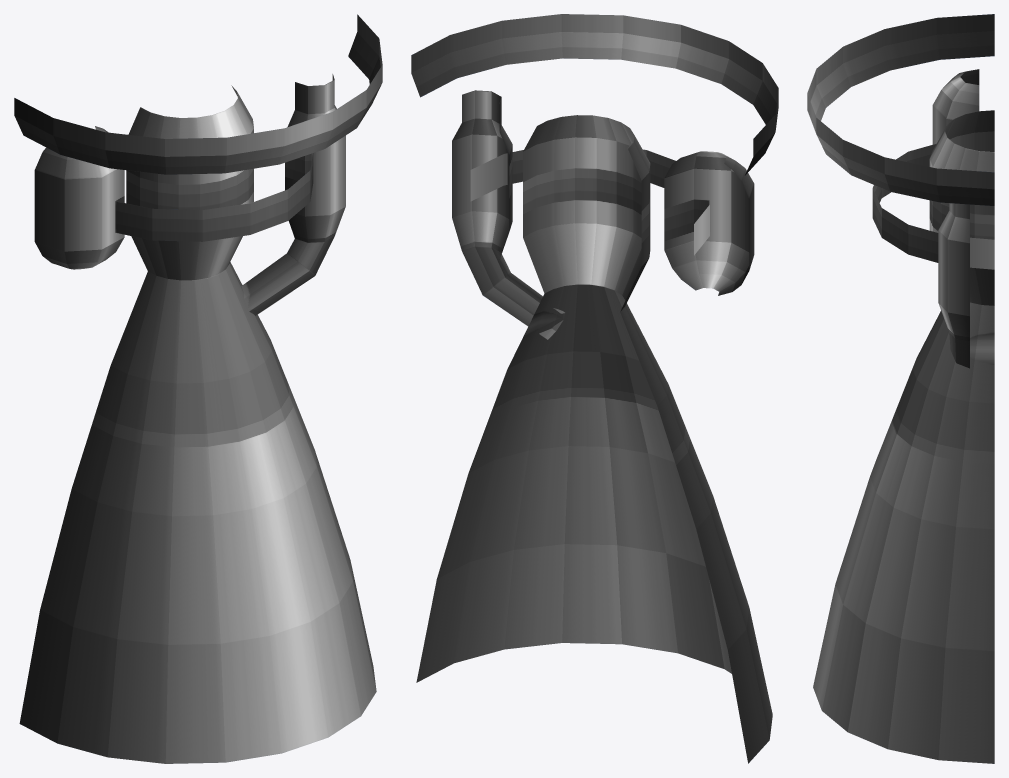
3 views of the same model, side by side, from view 1: azimuth 30°, elevation 25°; view 2: azimuth 150°, elevation 25°; view 3: azimuth 270°, elevation 25° (orthographic). The views are drawn at different scales.
Parts seen in each view (by area): view 1: Cylinder; view 2: Cylinder; view 3: Cylinder.
Boxes of the visible parts, bbox=[...] form: Cylinder: bbox=[14, 14, 382, 763]; Cylinder: bbox=[411, 14, 778, 763]; Cylinder: bbox=[807, 14, 994, 763].
Bounding box in the file's own units: 2 × 3.5 × 1.
1 material, 1 textured.
